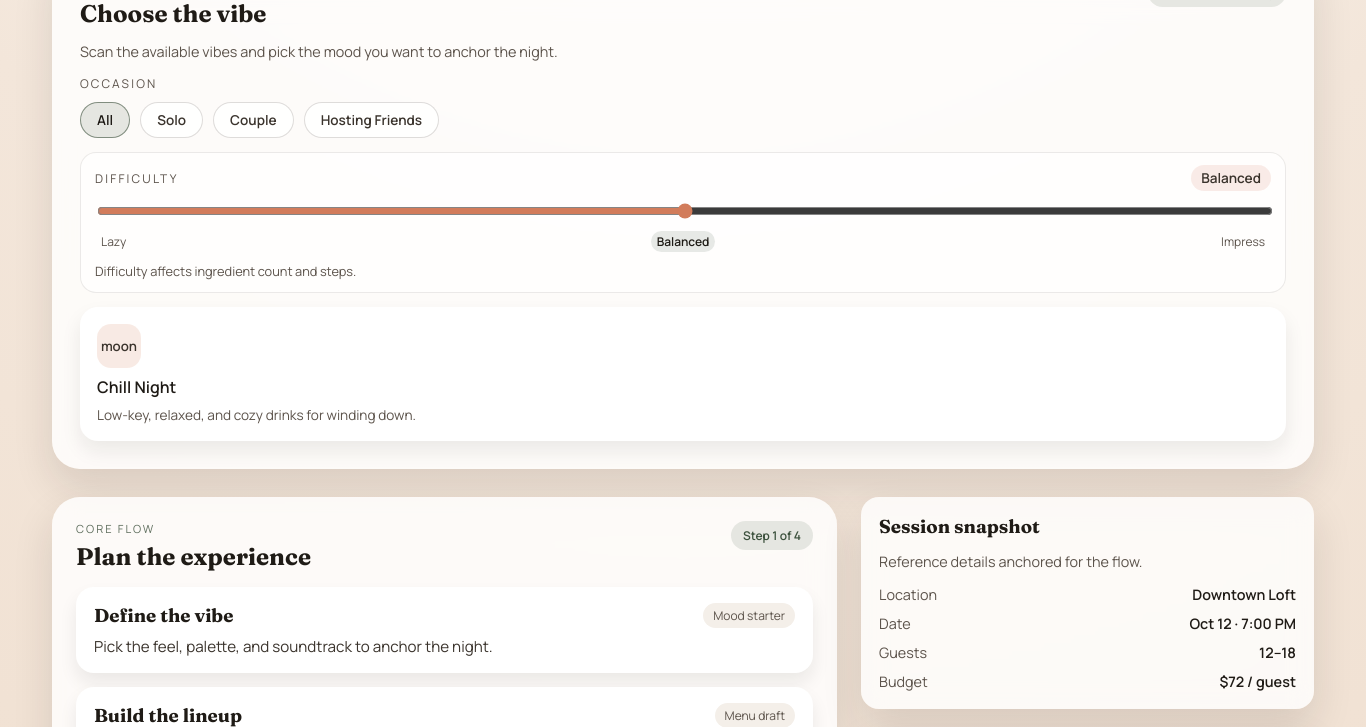
Test case: AppLayout cocktail results › renders the results list from the cocktails response
The width and height of the screenshot is (1366, 727).
(page scrolled)
Click the button "Chill Night".
click(683, 374)  # box [80,307,1286,441]
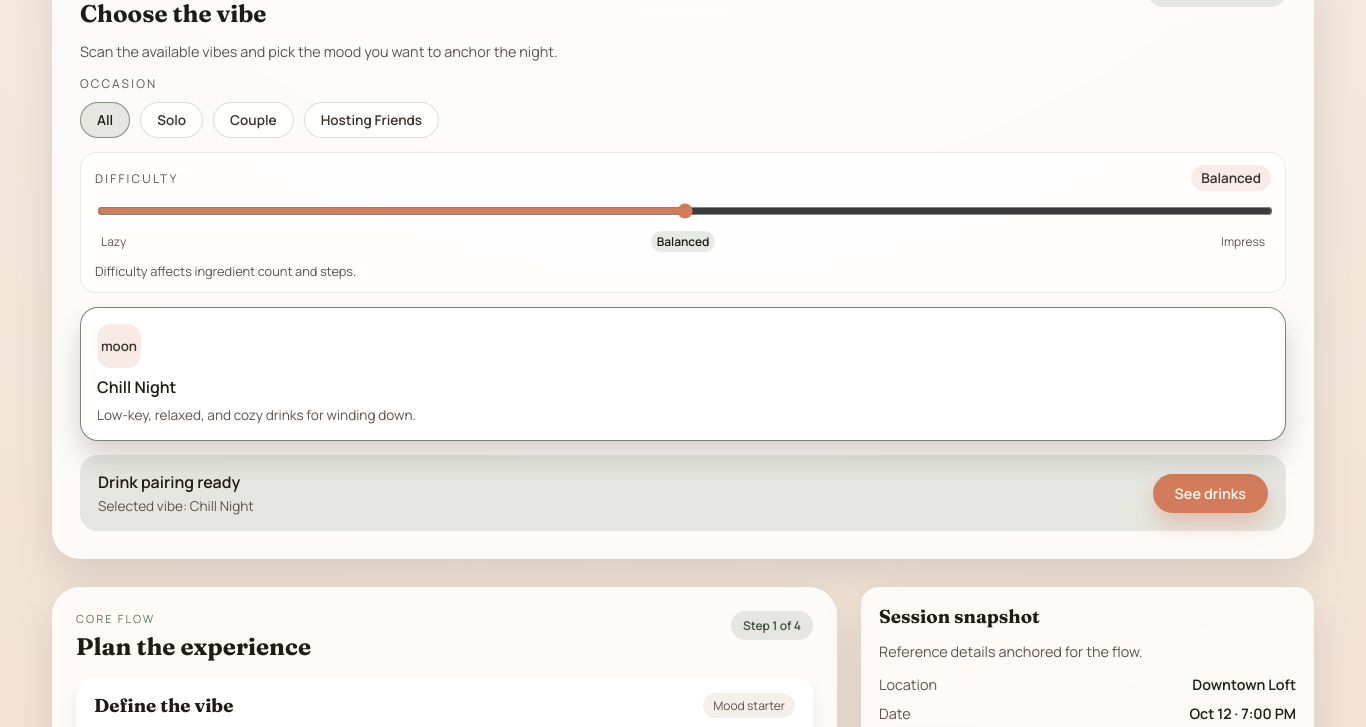
Click the button "See drinks".
click(1210, 493)  # box [1153,474,1268,512]
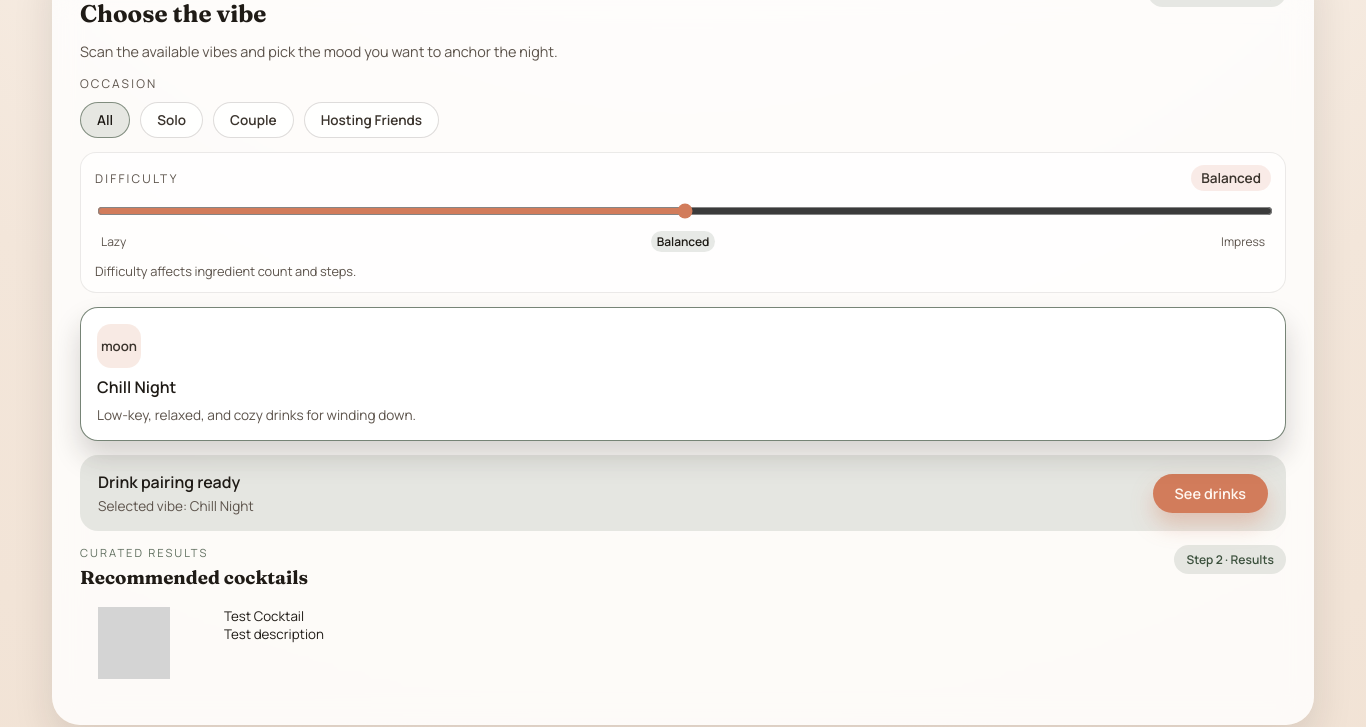
Expected: the heading "Recommended cocktails" is shown, [80,566,308,589]
Expected: the text "Test Cocktail" is shown, [224,607,304,625]
Expected: the text "Test description" is shown, [224,625,324,643]
